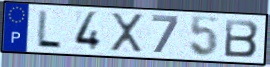4: (72, 9, 104, 53)
5: (187, 16, 219, 59)
7: (149, 13, 182, 56)
B: (223, 18, 261, 59)
L: (34, 9, 64, 50)
X: (110, 12, 145, 54)
